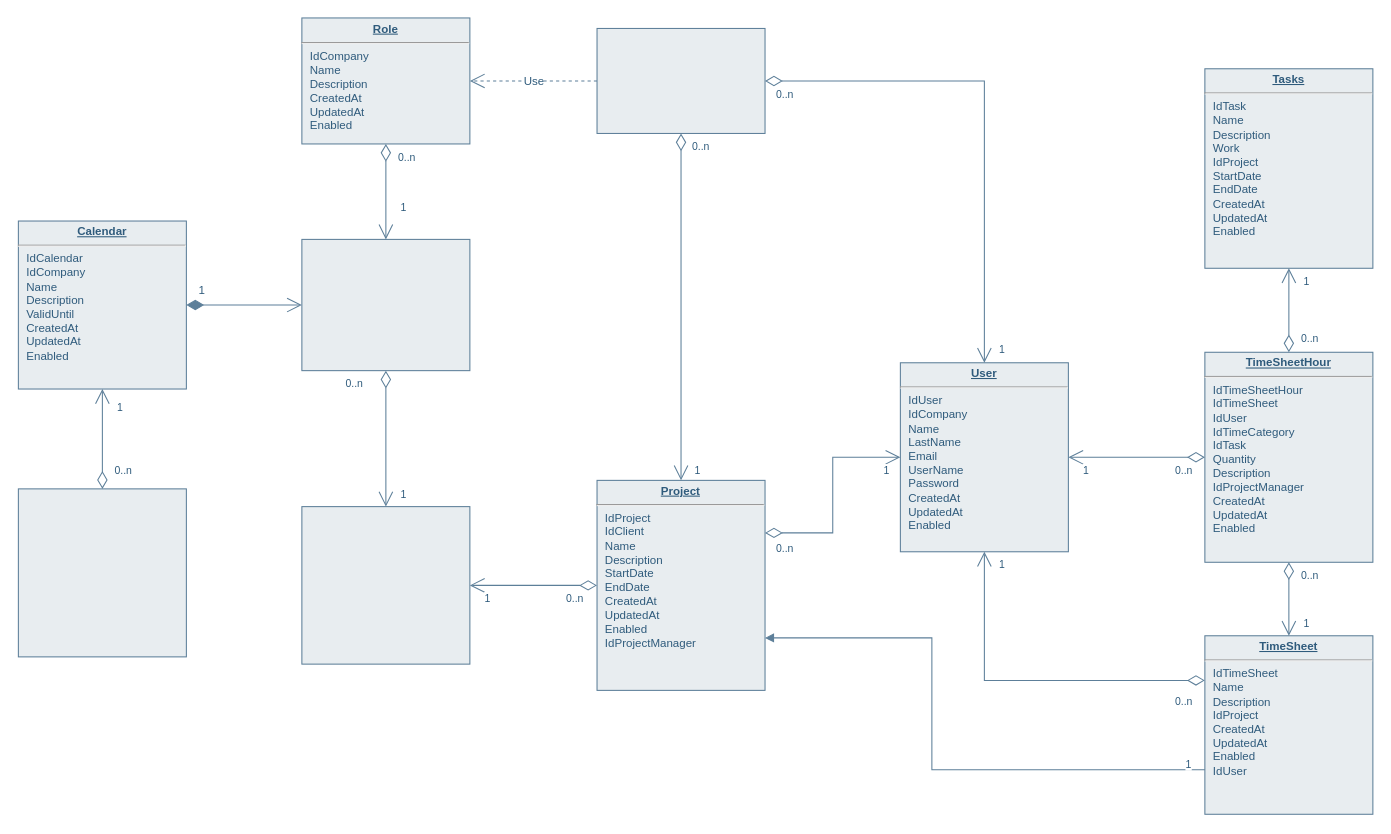
This 1391x834 diagram has some shape labels left out. The shapes that lost their labels are listed below. From the top down, each one's centre as x and y in pixels, then its label:
At (680,80): "UserProjectRole IdUserProjectRole IdRole IdProject IdUser".
At (385,304): "Company Name Description CreatedAt UpdatedAt Enabled".
At (101,572): "Holiday IdHoliday IdCalendar Name Description Date CreatedAt UpdatedAt Enabled".
At (385,585): "Client IdClient IdCompany Name Description CreatedAt UpdatedAt Enabled".
